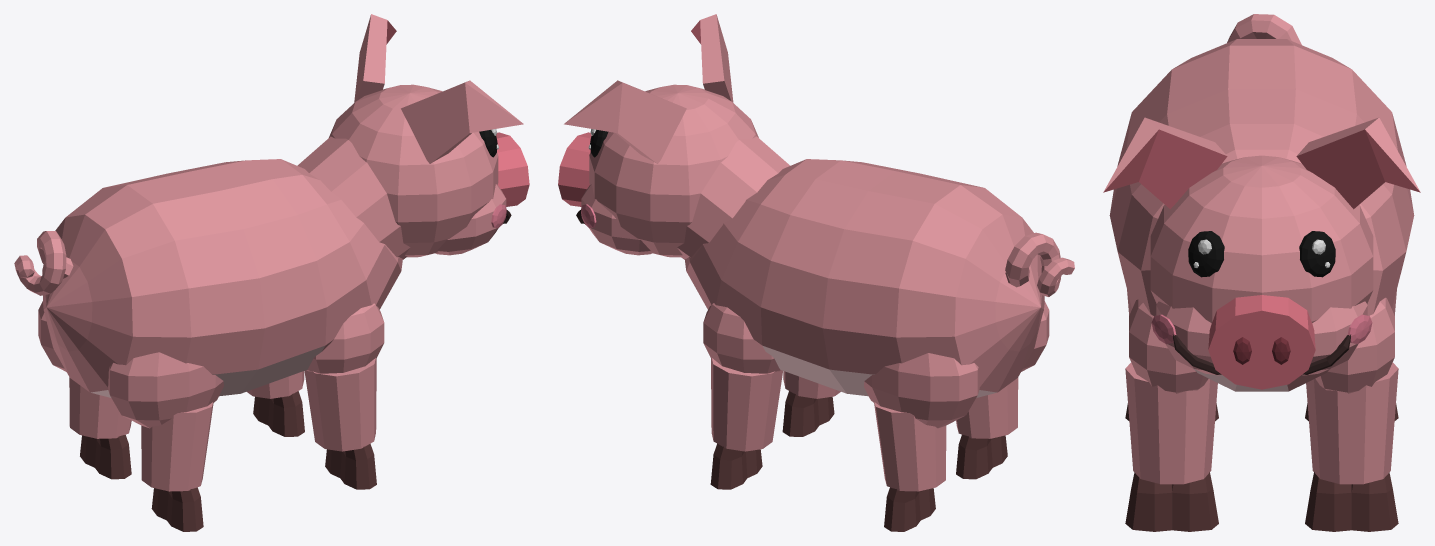
File: pig.glb
The picture shows the model from 3 angles, left to right: view 1: azimuth 30°, elevation 25°; view 2: azimuth 150°, elevation 25°; view 3: azimuth 270°, elevation 25°; orthographic projection. The views are drawn at different scales.
Visible parts, largest first — view 1: body, head, leg_br, leg_fr, leg_bl, leg_fl, tail; view 2: body, head, leg_bl, leg_fl, leg_br, tail, leg_fr; view 3: head, body, leg_fl, leg_fr, tail.
Part boxes in pixels (bbox=[...]): body: bbox=[42, 159, 402, 397]; head: bbox=[297, 14, 529, 259]; leg_br: bbox=[108, 352, 223, 531]; leg_fr: bbox=[304, 303, 384, 489]; leg_bl: bbox=[38, 301, 131, 479]; leg_fl: bbox=[247, 371, 304, 436]; tail: bbox=[14, 231, 73, 295]; body: bbox=[684, 159, 1044, 397]; head: bbox=[558, 14, 789, 259]; leg_bl: bbox=[864, 353, 979, 531]; leg_fl: bbox=[703, 303, 782, 489]; leg_br: bbox=[956, 301, 1049, 479]; tail: bbox=[1005, 232, 1074, 296]; leg_fr: bbox=[782, 371, 840, 436]; head: bbox=[1103, 117, 1420, 389]; body: bbox=[1109, 39, 1414, 391]; leg_fl: bbox=[1305, 297, 1398, 531]; leg_fr: bbox=[1125, 299, 1218, 531]; tail: bbox=[1227, 14, 1301, 44].
Size of the model in its own units: 1.83 by 1.33 by 0.814.
